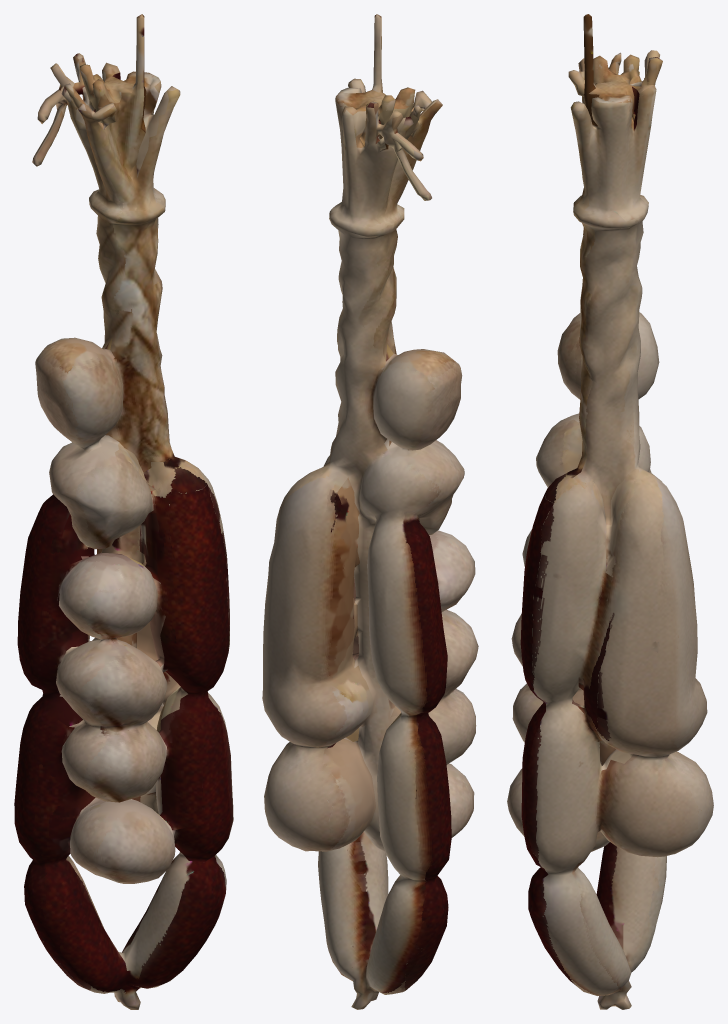
File: ristras.glb
3 renders of one model, left to right at view 1: azimuth 30°, elevation 25°; view 2: azimuth 150°, elevation 25°; view 3: azimuth 270°, elevation 25°, orthographic. The views are drawn at different scales.
Visible parts, largest first — view 1: temp_mesh.ply; view 2: temp_mesh.ply; view 3: temp_mesh.ply.
Part boxes in pixels (x1,y1,x2,y2): temp_mesh.ply: (14,14,233,1009); temp_mesh.ply: (262,14,478,1009); temp_mesh.ply: (507,14,713,1009).
Bounding box in the file's own units: 0.15 × 0.8 × 0.1507.
Materials: 1 (1 with a texture image).
